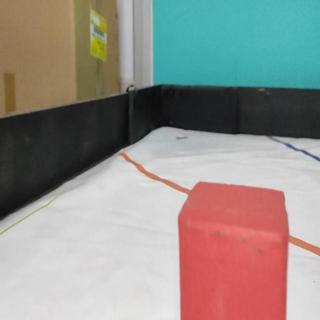redbox: (177, 181, 289, 320)
